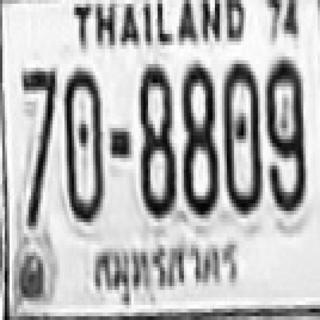N00: (64, 66, 105, 220), (222, 60, 260, 211)
N07: (19, 68, 57, 226), (19, 68, 57, 177)
N08: (139, 62, 174, 216), (182, 62, 217, 213)
N09: (265, 57, 303, 211)
P58: (80, 231, 245, 304)
